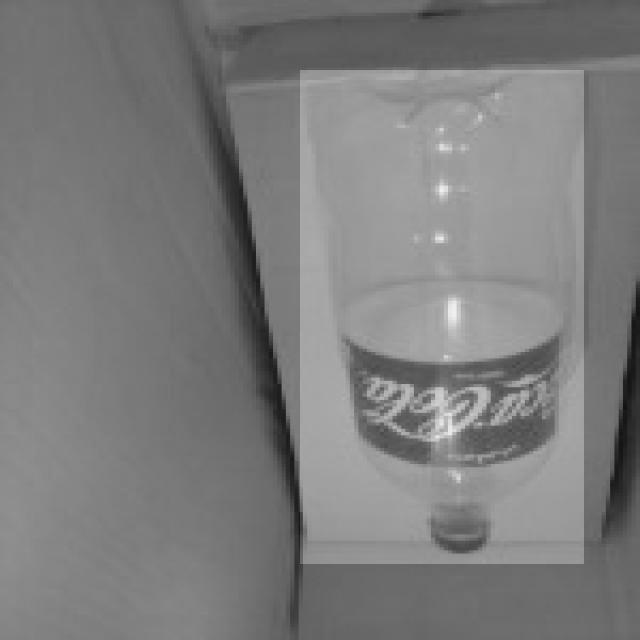bottle: (300, 70, 584, 564)
